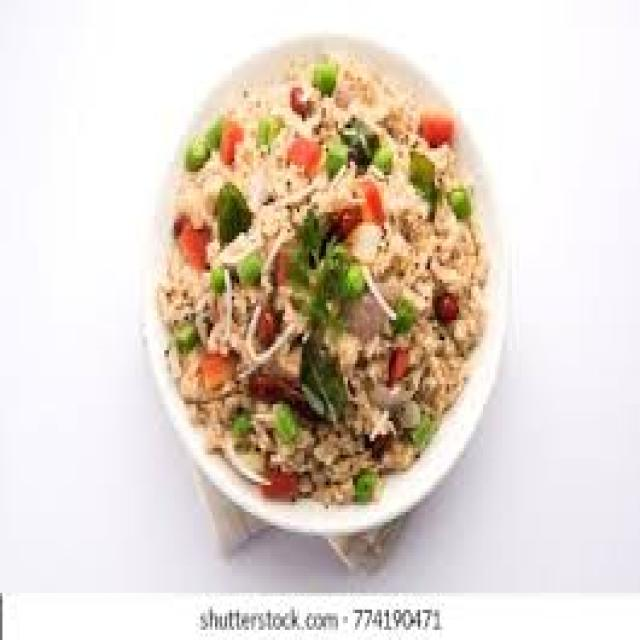UPMA: (155, 51, 483, 488)
